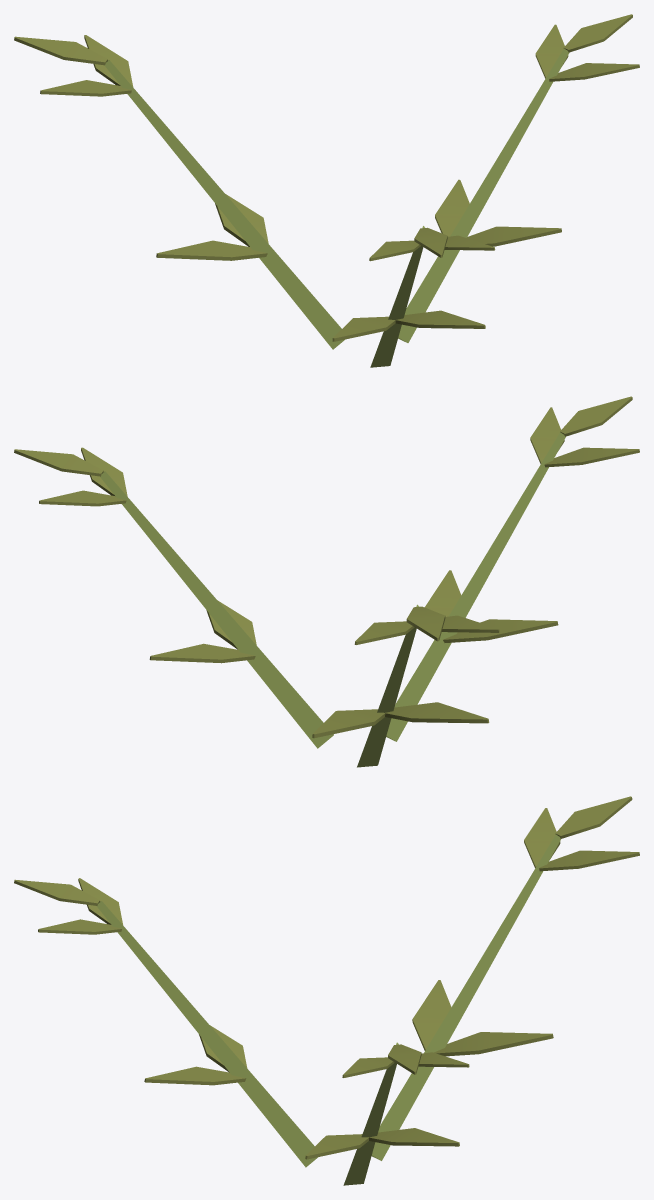
The model's file is crop_carrot_sprout.glb.
The picture shows the model from 3 angles, top to bottom: view 1: azimuth 30°, elevation 25°; view 2: azimuth 150°, elevation 25°; view 3: azimuth 270°, elevation 25°; orthographic projection. The views are drawn at different scales.
Parts seen in each view (by area): view 1: carrot_sprout_00_p_0_L, carrot_sprout_00_rachis; view 2: carrot_sprout_00_p_0_L, carrot_sprout_00_rachis; view 3: carrot_sprout_00_p_0_L, carrot_sprout_00_rachis.
Boxes of the visible parts, x1,y1,x2,y2 form: carrot_sprout_00_p_0_L: (14,14,639,341); carrot_sprout_00_rachis: (104,48,569,367); carrot_sprout_00_p_0_L: (14,396,639,738); carrot_sprout_00_rachis: (100,432,565,767); carrot_sprout_00_p_0_L: (14,796,639,1159); carrot_sprout_00_rachis: (96,834,560,1185).
Bounding box in the file's own units: 0.3583 × 0.1708 × 0.365.
